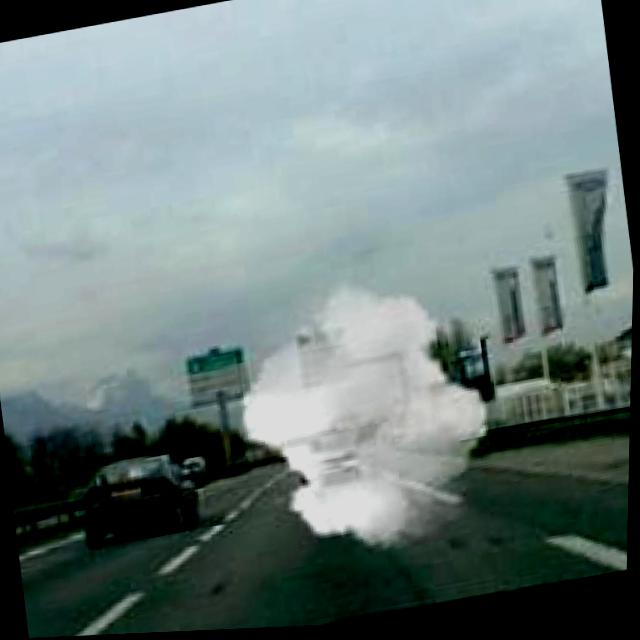no_helmet: (213, 258, 519, 578)
